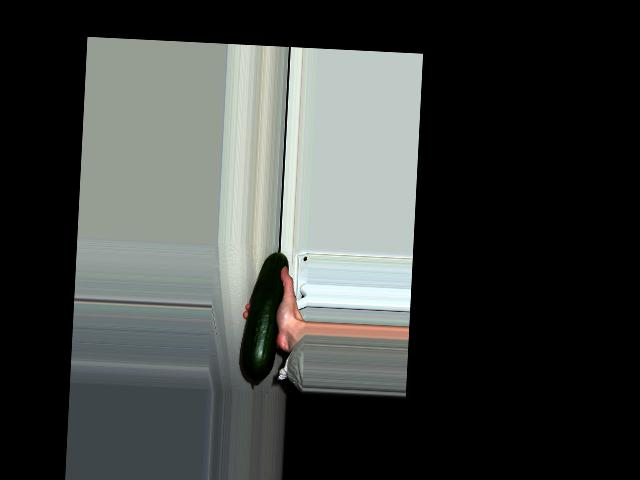cucumber: (238, 250, 288, 386)
